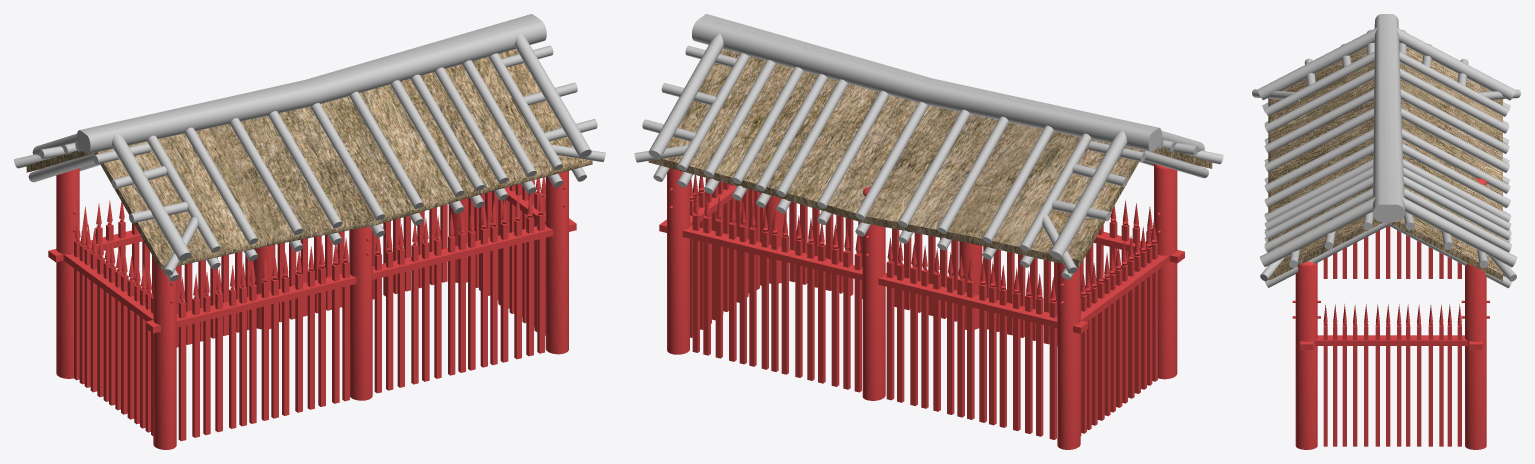
The model's file is Gate3.fbx.
3 views of the same model, side by side, from view 1: azimuth 30°, elevation 25°; view 2: azimuth 150°, elevation 25°; view 3: azimuth 270°, elevation 25° (orthographic). The views are drawn at different scales.
Parts seen in each view (by area): view 1: Gate.002, Gate2_Rooftop_Deco.001, Gate2_Rooftop.001; view 2: Gate.002, Gate2_Rooftop_Deco.001, Gate2_Rooftop.001; view 3: Gate2_Rooftop_Deco.001, Gate.002, Gate2_Rooftop.001.
Part boxes in pixels (x1,y1,x2,y2): Gate.002: [48, 168, 576, 449]; Gate2_Rooftop_Deco.001: [14, 14, 605, 281]; Gate2_Rooftop.001: [26, 49, 592, 269]; Gate.002: [659, 164, 1184, 449]; Gate2_Rooftop_Deco.001: [634, 14, 1223, 279]; Gate2_Rooftop.001: [648, 49, 1212, 267]; Gate2_Rooftop_Deco.001: [1252, 14, 1520, 288]; Gate.002: [1292, 178, 1489, 449]; Gate2_Rooftop.001: [1268, 47, 1502, 280].
Size of the model in its own units: 1452 by 878 by 846.
